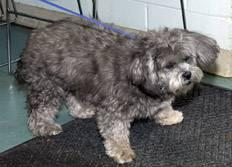dog: (15, 18, 218, 163)
